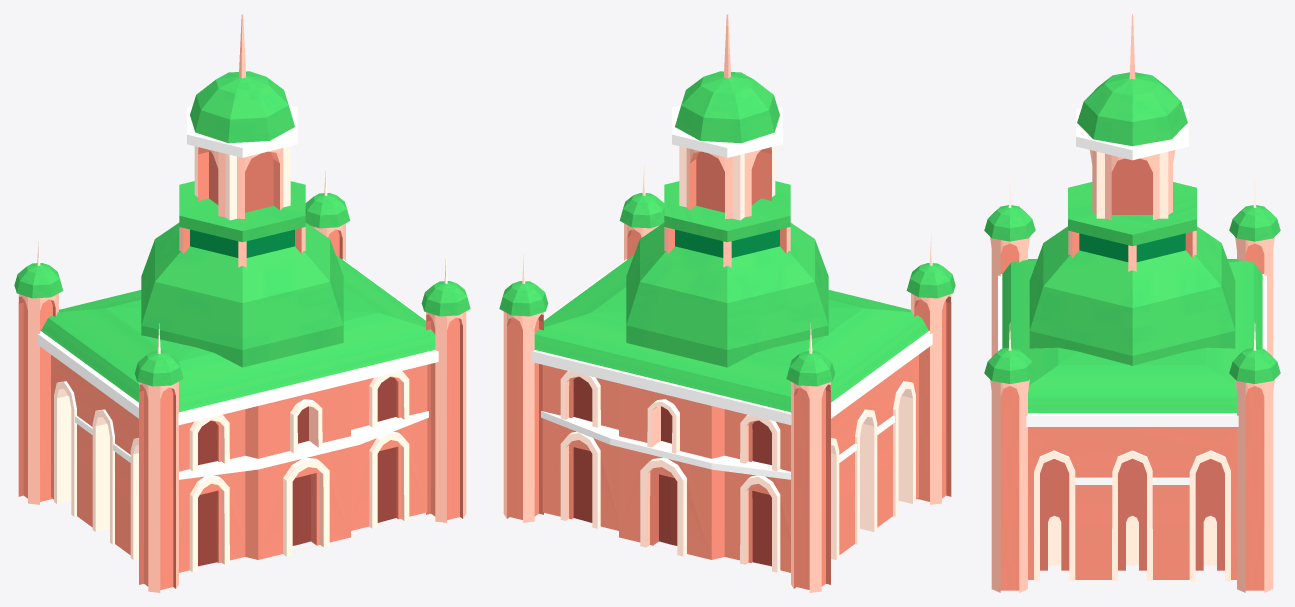
The model's file is temple.003.glb.
3 views of the same model, side by side, from view 1: azimuth 30°, elevation 25°; view 2: azimuth 150°, elevation 25°; view 3: azimuth 270°, elevation 25° (orthographic).
Visible parts, largest first — view 1: temple.003(Clone); view 2: temple.003(Clone); view 3: temple.003(Clone).
Part boxes in pixels (x1,y1,x2,y2): temple.003(Clone): (14,14,470,592); temple.003(Clone): (499,14,955,592); temple.003(Clone): (984,14,1280,592).
Size of the model in its own units: 15.34 by 21.76 by 11.7.
1 material, 1 textured.
